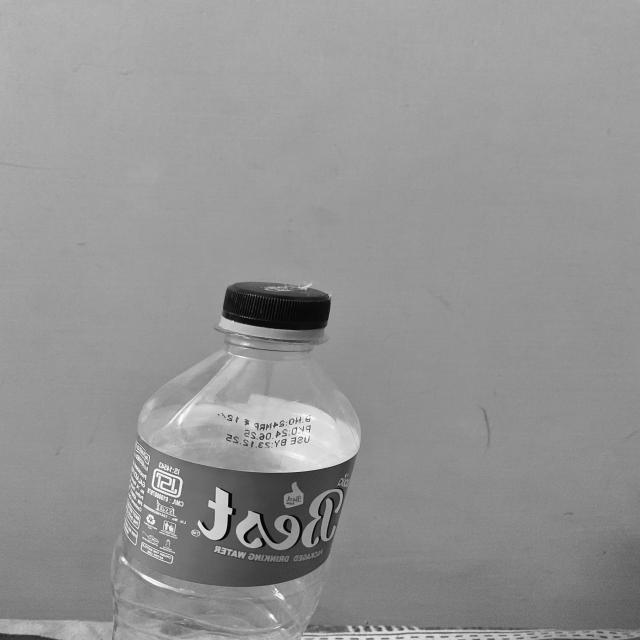Good-cap-Df0S: (216, 280, 336, 341)
